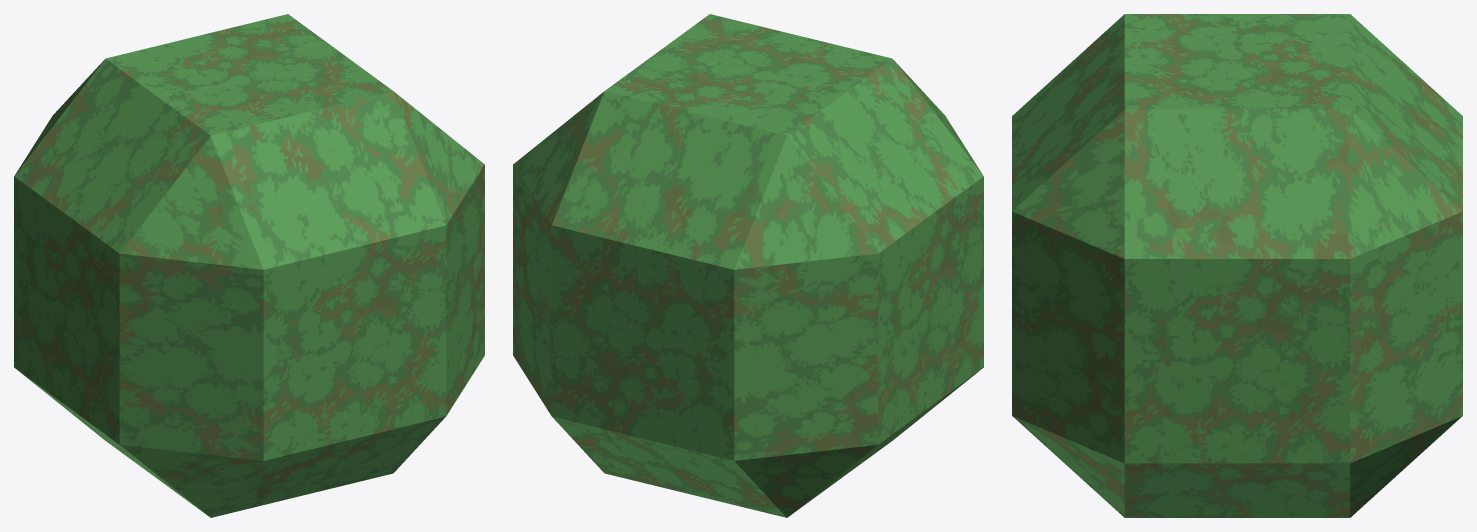
File: Dirt.fbx
3 views of the same model, side by side, from view 1: azimuth 30°, elevation 25°; view 2: azimuth 150°, elevation 25°; view 3: azimuth 270°, elevation 25° (orthographic). The views are drawn at different scales.
Visible parts, largest first — view 1: Dirt; view 2: Dirt; view 3: Dirt.
Part boxes in pixels (x1=…): Dirt: x1=14, y1=14, x2=484, y2=517; Dirt: x1=513, y1=14, x2=983, y2=517; Dirt: x1=1012, y1=14, x2=1462, y2=517.
Size of the model in its own units: 57.99 by 57.99 by 57.99.
